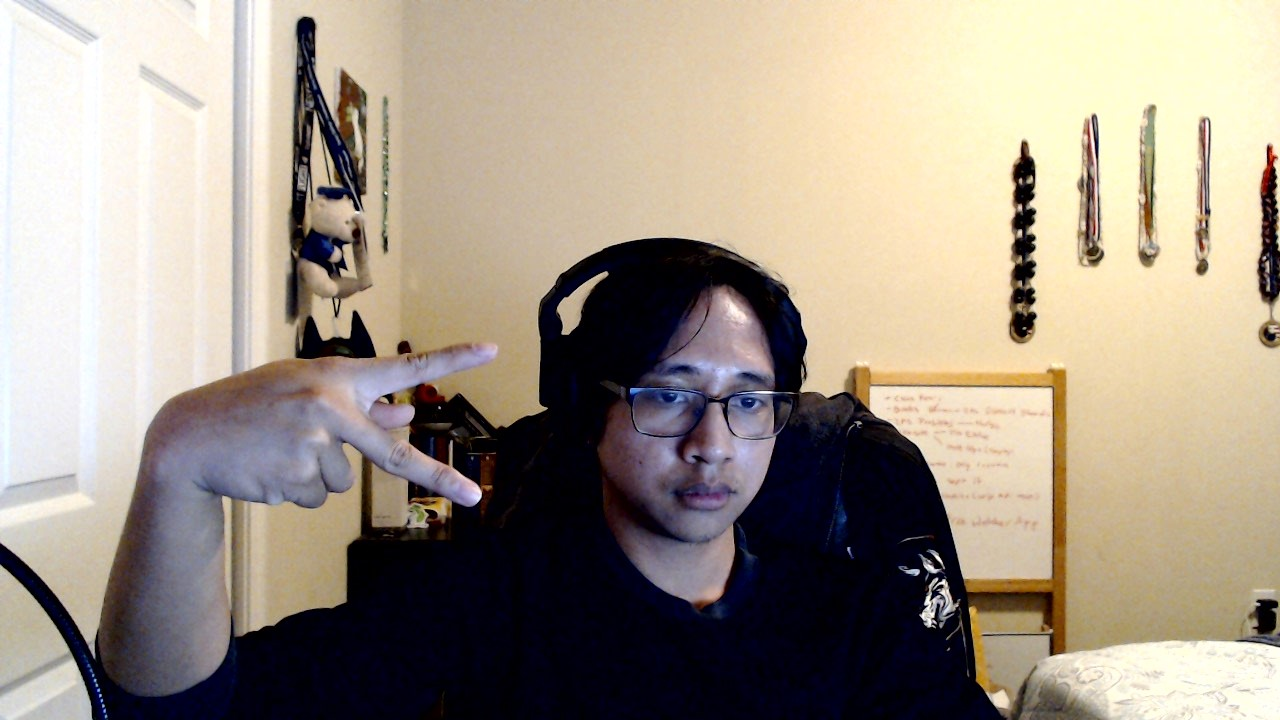p: (126, 336, 499, 509)
